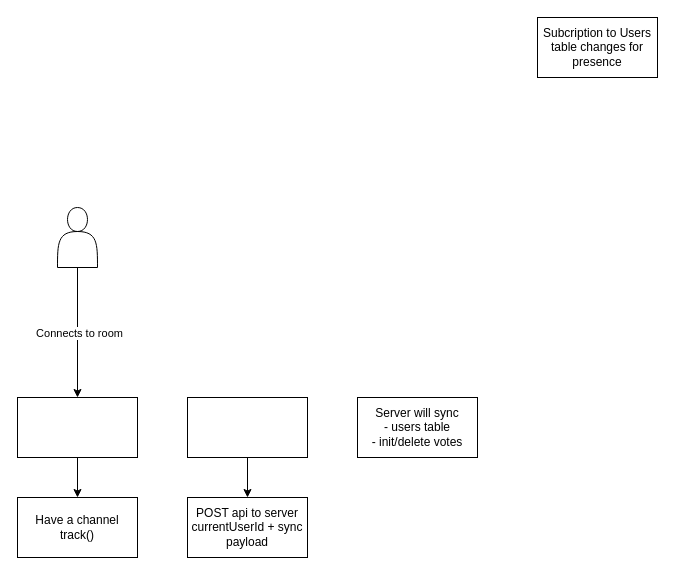
Image size: 675x575. Some labels were removed from this diagram. The centre of each missing label's shape, as x and y in pixels:
"Generate component user id" goes at (77,427).
"on channel sync" goes at (247,427).
